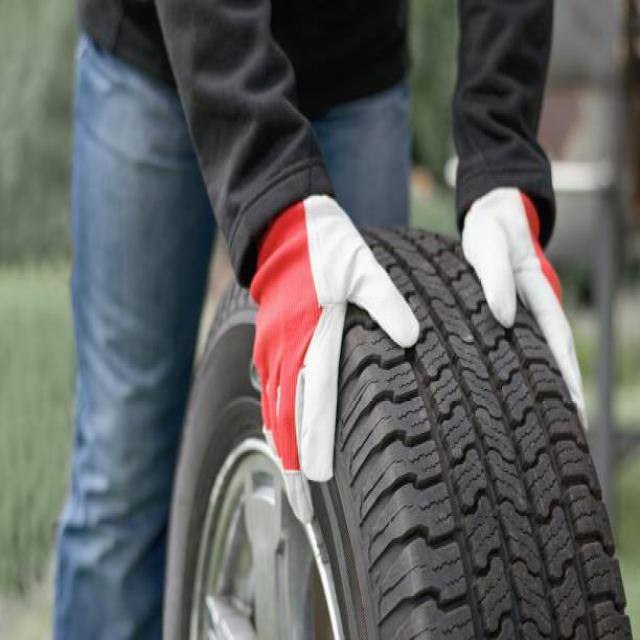Gloves: (240, 190, 423, 529), (459, 185, 596, 435)
